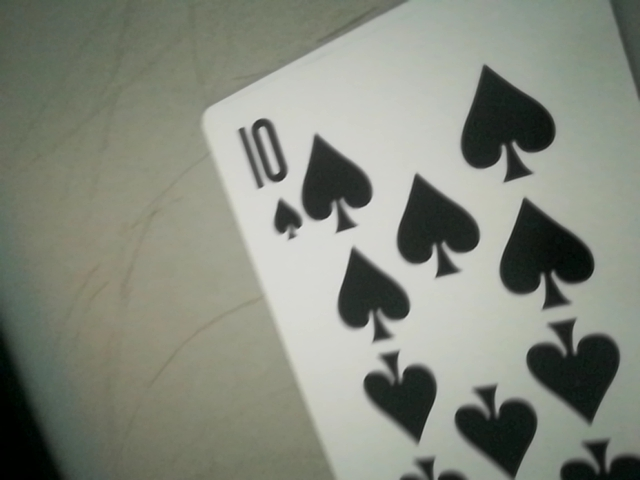ht 10: (233, 107, 310, 247)
